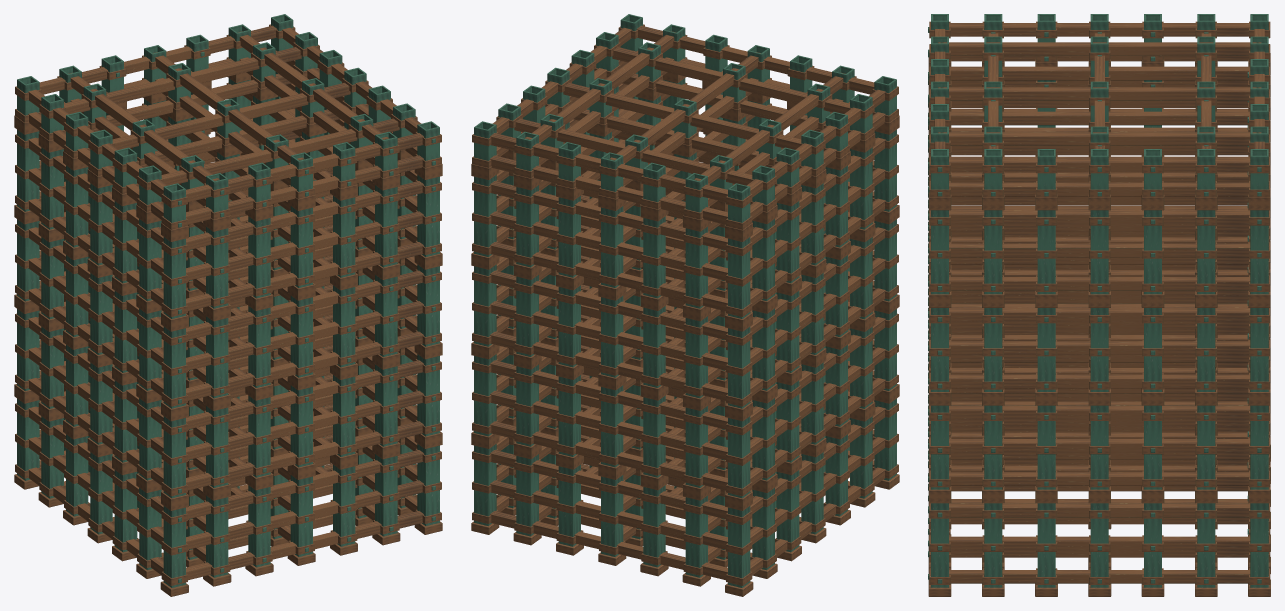
The picture shows the model from 3 angles, left to right: view 1: azimuth 30°, elevation 25°; view 2: azimuth 150°, elevation 25°; view 3: azimuth 270°, elevation 25°; orthographic projection. The views are drawn at different scales.
Parts seen in each view (by area): view 1: Tier 4 internal tie 0-0.56-0-0.75, Tier 4 internal tie 0-0-0-0.75, Tier 4 internal tie 0--0.56-0-0.75, Tier 4 tie 0-0-0.75, Tier 1 tie 0-0-0.5, Tier 1 tie 0-0-0.16, Tier 2 tie 0-0-0.16, Tier 2 tie 0-0-0.5, Tier 3 tie 0-0-0.5, Tier 1 tie 0-0-0.84, Tier 0 tie 0-0-0.16, Tier 3 tie 0-0-0.16 (+96 smaller); view 2: Tier 4 internal tie 0--0.56-0-0.75, Tier 4 internal tie 0-0-0-0.75, Tier 4 internal tie 0-0.56-0-0.75, Tier 4 tie 2-0-0.75, Tier 1 tie 2-0-0.5, Tier 1 tie 2-0-0.16, Tier 2 tie 2-0-0.16, Tier 2 tie 2-0-0.5, Tier 3 tie 2-0-0.5, Tier 1 tie 2-0-0.84, Tier 0 tie 2-0-0.16, Tier 3 tie 2-0-0.16 (+96 smaller); view 3: Tier 4 internal tie 1--0.56-0-0.25, Tier 4 internal tie 1-0-0-0.25, Tier 4 internal tie 1--0.56-0-0.75, Tier 4 internal tie 1-0-0-0.75, Tier 4 internal tie 1-0.56-0-0.75, Tier 0 tie 1-0-0.5, Tier 2 tie 1-0-0.16, Tier 3 tie 1-0-0.5, Tier 0 tie 1-0-0.84, Tier 4 tie 1-0-0.25, Tier 1 tie 1-0-0.16, Tier 2 tie 1-0-0.5 (+93 smaller).
Boxes of the visible parts, x1=… form: Tier 4 internal tie 0-0.56-0-0.75: x1=64, y1=47, x2=301, y2=113; Tier 4 internal tie 0-0-0-0.75: x1=112, y1=83, x2=350, y2=149; Tier 4 internal tie 0--0.56-0-0.75: x1=161, y1=118, x2=399, y2=185; Tier 4 tie 0-0-0.75: x1=186, y1=133, x2=423, y2=202; Tier 1 tie 0-0-0.5: x1=186, y1=390, x2=423, y2=459; Tier 1 tie 0-0-0.16: x1=186, y1=421, x2=423, y2=490; Tier 2 tie 0-0-0.16: x1=186, y1=331, x2=423, y2=400; Tier 2 tie 0-0-0.5: x1=186, y1=301, x2=423, y2=370; Tier 3 tie 0-0-0.5: x1=186, y1=211, x2=423, y2=280; Tier 1 tie 0-0-0.84: x1=186, y1=360, x2=423, y2=429; Tier 0 tie 0-0-0.16: x1=186, y1=511, x2=423, y2=580; Tier 3 tie 0-0-0.16: x1=186, y1=242, x2=423, y2=311; Tier 4 internal tie 0--0.56-0-0.75: x1=612, y1=47, x2=849, y2=113; Tier 4 internal tie 0-0-0-0.75: x1=563, y1=83, x2=801, y2=149; Tier 4 internal tie 0-0.56-0-0.75: x1=514, y1=118, x2=752, y2=185; Tier 4 tie 2-0-0.75: x1=490, y1=133, x2=727, y2=202; Tier 1 tie 2-0-0.5: x1=490, y1=390, x2=727, y2=459; Tier 1 tie 2-0-0.16: x1=490, y1=421, x2=727, y2=490; Tier 2 tie 2-0-0.16: x1=490, y1=331, x2=727, y2=400; Tier 2 tie 2-0-0.5: x1=490, y1=301, x2=727, y2=370; Tier 3 tie 2-0-0.5: x1=490, y1=211, x2=727, y2=280; Tier 1 tie 2-0-0.84: x1=490, y1=360, x2=727, y2=429; Tier 0 tie 2-0-0.16: x1=490, y1=511, x2=727, y2=580; Tier 3 tie 2-0-0.16: x1=490, y1=242, x2=727, y2=311; Tier 4 internal tie 1--0.56-0-0.25: x1=950, y1=66, x2=1248, y2=80; Tier 4 internal tie 1-0-0-0.25: x1=950, y1=111, x2=1248, y2=125; Tier 4 internal tie 1--0.56-0-0.75: x1=938, y1=42, x2=1261, y2=55; Tier 4 internal tie 1-0-0-0.75: x1=938, y1=87, x2=1261, y2=100; Tier 4 internal tie 1-0.56-0-0.75: x1=938, y1=132, x2=1261, y2=145; Tier 0 tie 1-0-0.5: x1=949, y1=536, x2=1250, y2=550; Tier 2 tie 1-0-0.16: x1=949, y1=374, x2=1250, y2=388; Tier 3 tie 1-0-0.5: x1=949, y1=243, x2=1250, y2=257; Tier 0 tie 1-0-0.84: x1=949, y1=503, x2=1250, y2=517; Tier 4 tie 1-0-0.25: x1=949, y1=182, x2=1250, y2=196; Tier 1 tie 1-0-0.16: x1=949, y1=472, x2=1250, y2=485; Tier 2 tie 1-0-0.5: x1=949, y1=341, x2=1250, y2=354.
Size of the model in its own units: 1.8 by 2.55 by 1.8.
Materials: 2 (2 with a texture image).
